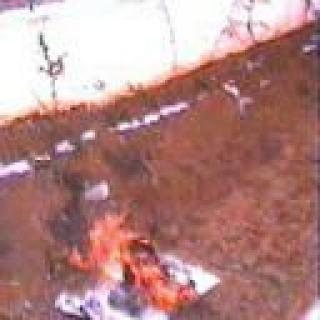fire: (51, 204, 200, 316)
